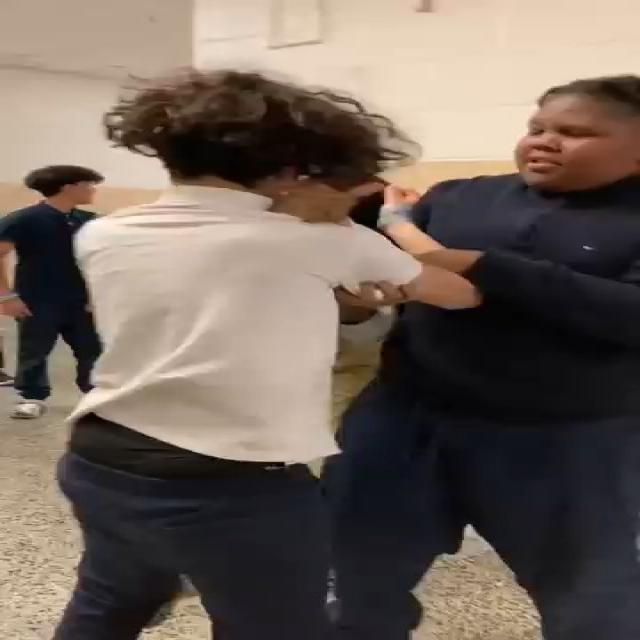fight: (69, 69, 640, 640)
